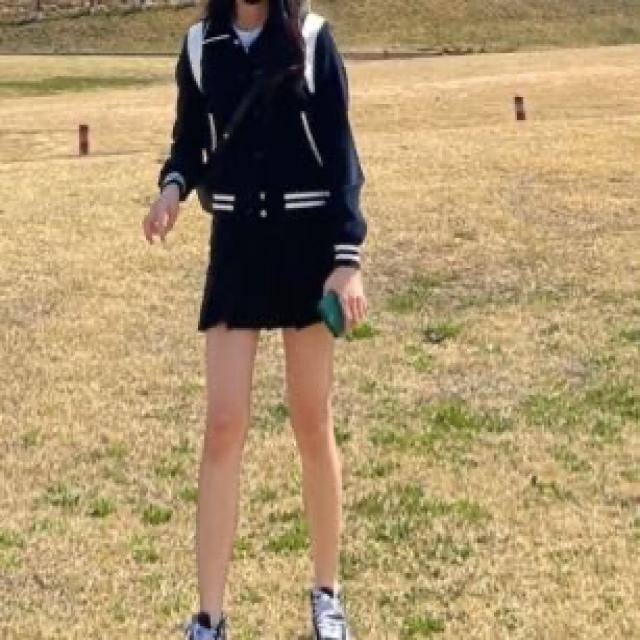jacket: (158, 11, 370, 276)
skirt: (192, 192, 344, 334)
